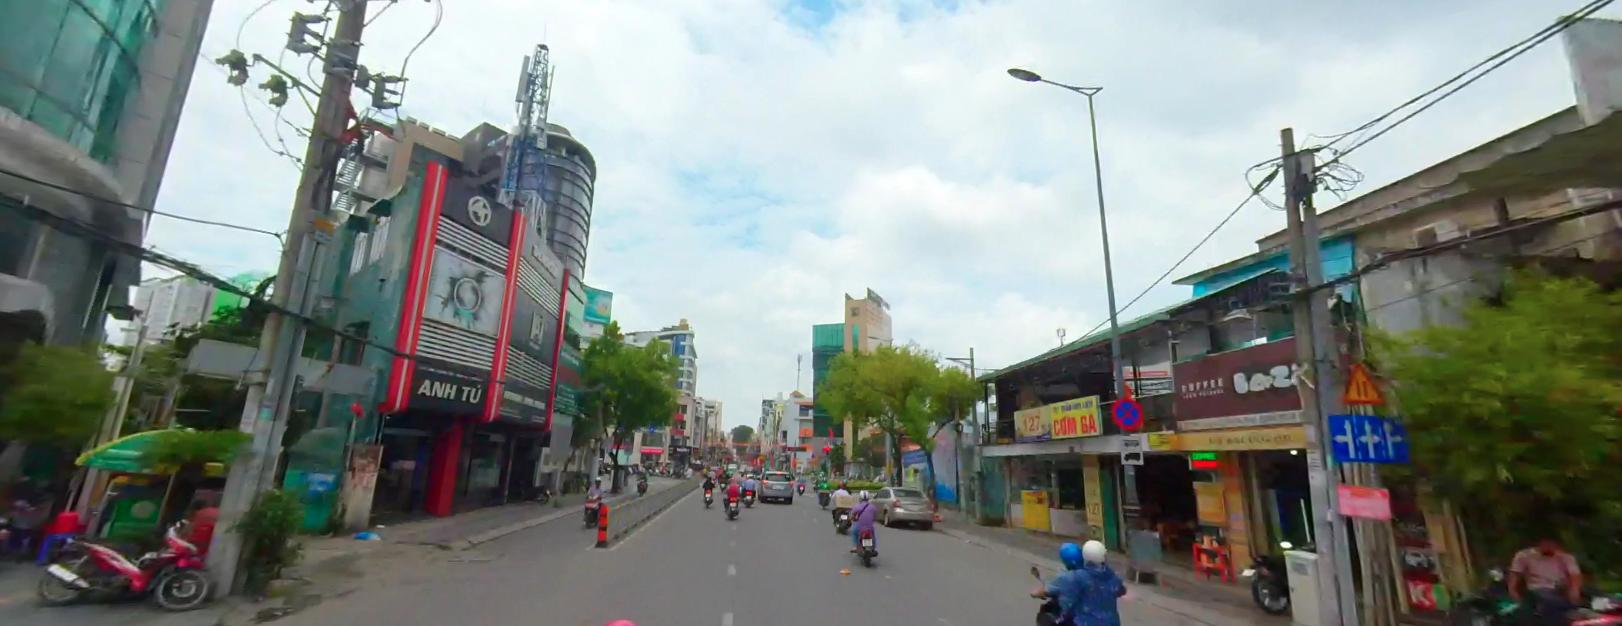Cam dung va do: (1111, 395, 1143, 429)
Nguy hiem: (1340, 359, 1388, 403)
